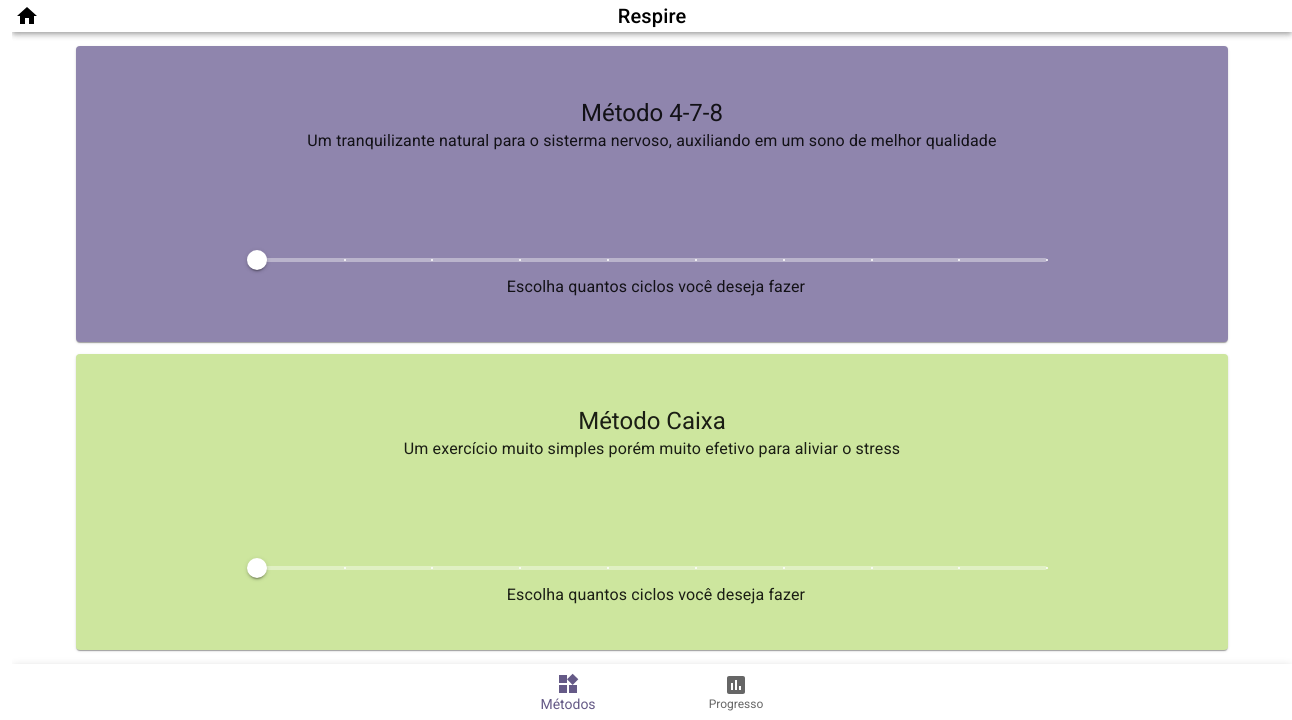
Test: Progress page › should redirect to signup page when trying to access progress page if not logged
Click the button "Progresso": (736,692) [652,664,820,719]
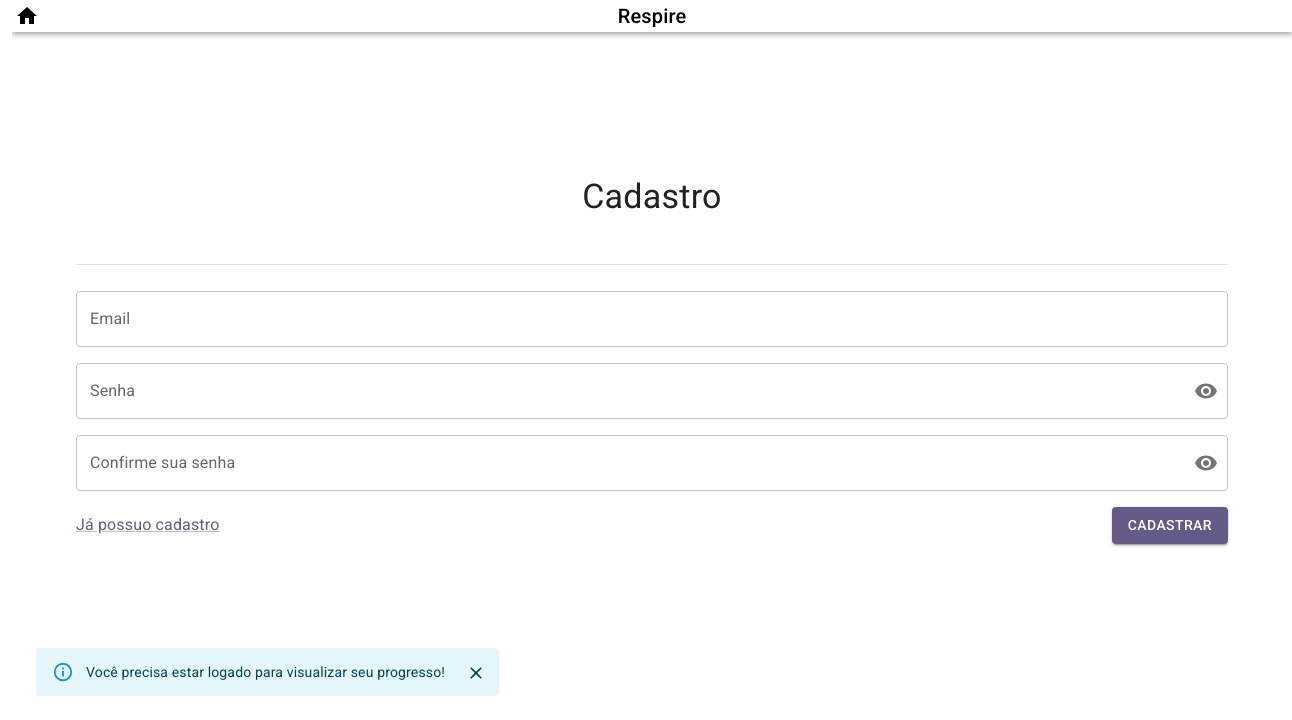
Now the text "Você precisa estar logado" is shown, box [86,664,445,680]
Now the heading "Cadastro" is shown, box [582,176,722,216]
